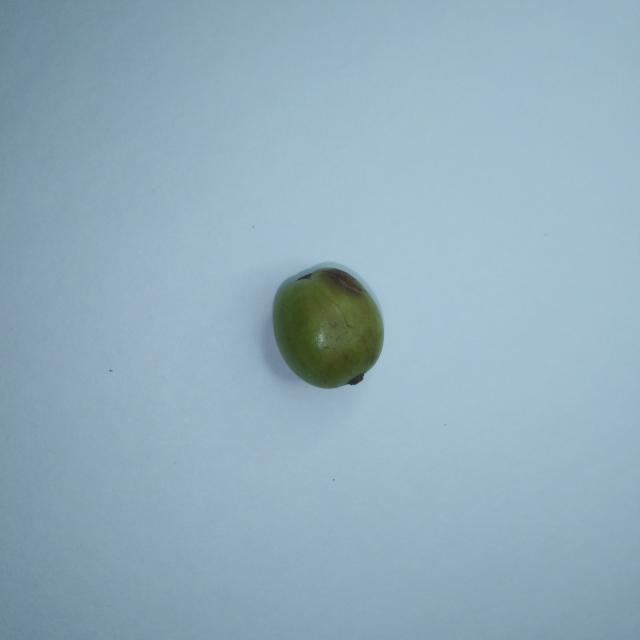Sano: (273, 266, 383, 388)
